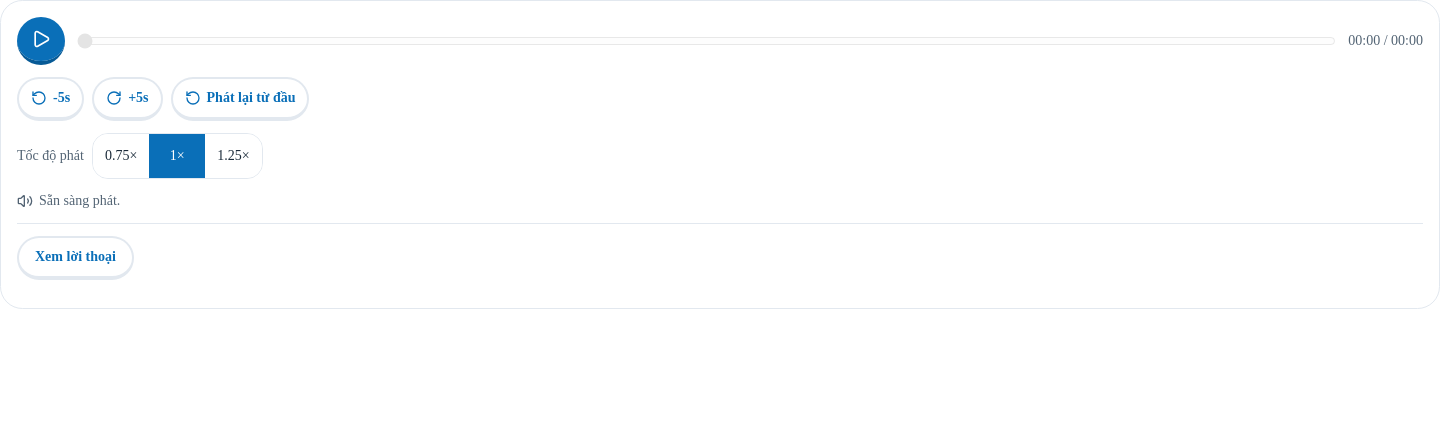
Scenario: QuestionMaterial › transcriptVi (sau khi nộp) bật tuỳ chọn hiện bản dịch
This screenshot has width=1440, height=438.
Click the button "Xem lời thoại" at coordinates (75, 258), box [17, 236, 134, 280]
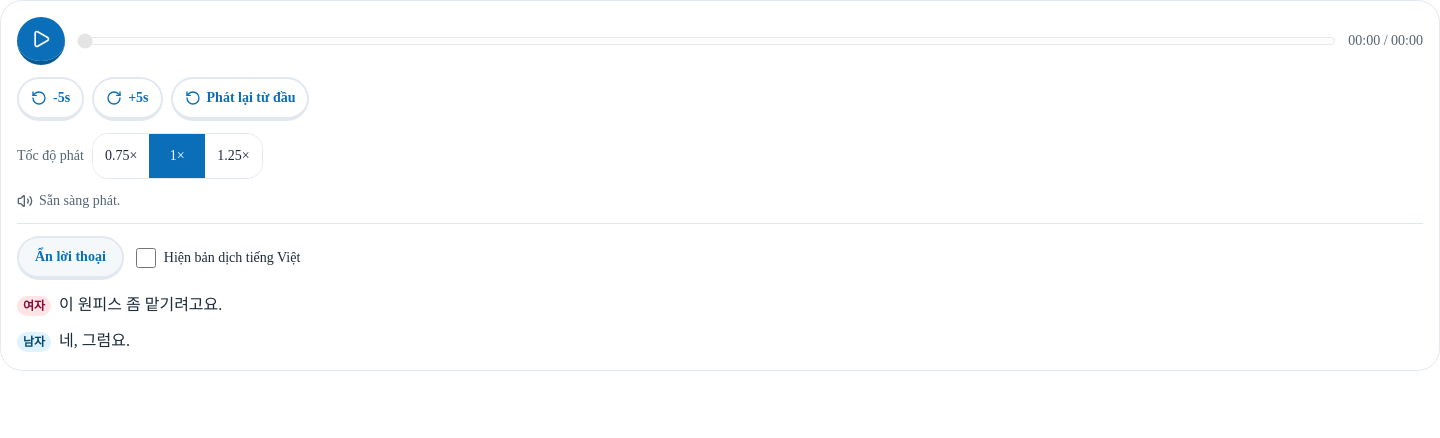
Click the checkbox labelled "Hiện bản dịch tiếng Việt" at coordinates (146, 258), box [136, 248, 156, 268]
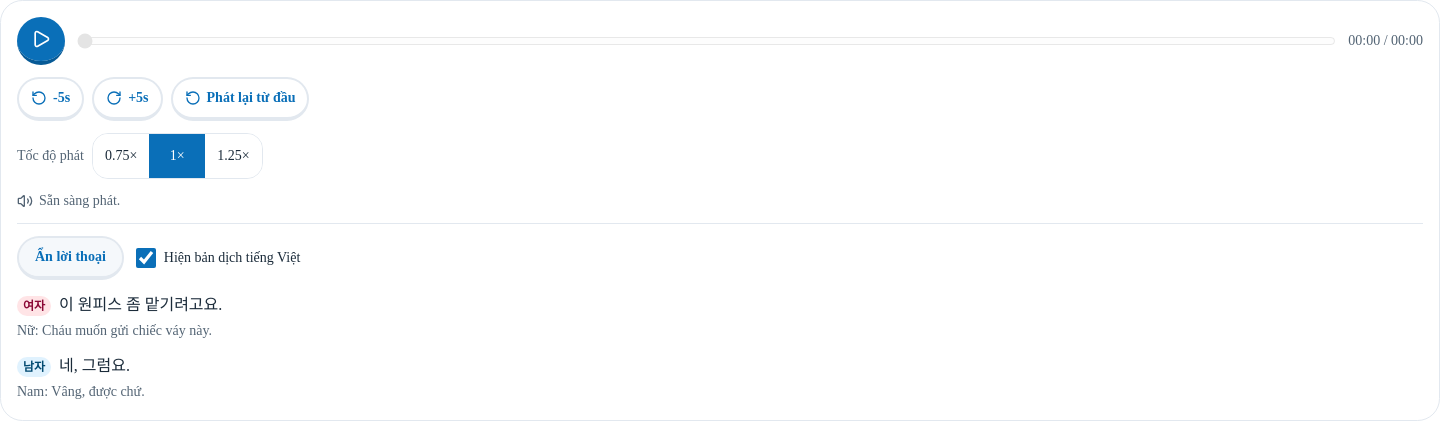
Now the text "Nữ: Cháu muốn gửi chiếc váy này." is shown, box [17, 323, 212, 338]
